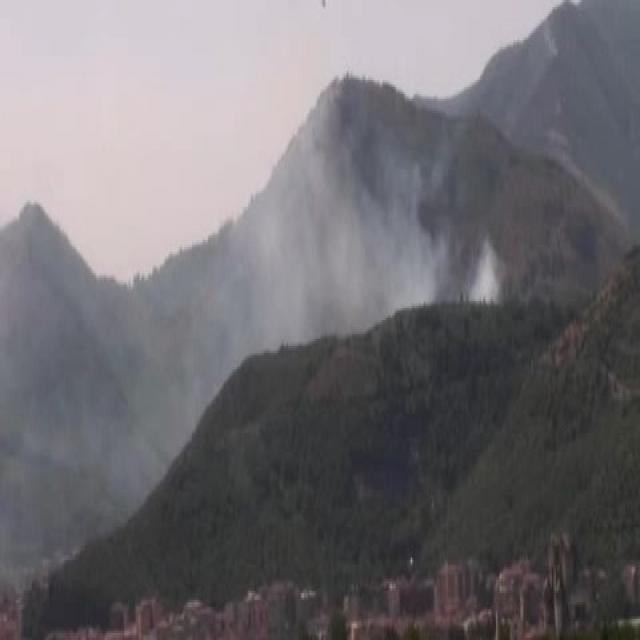smoke: (251, 150, 504, 308), (40, 272, 180, 459)
